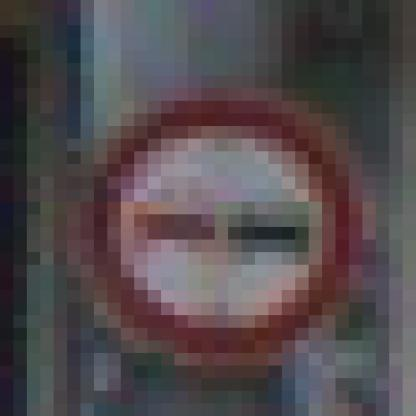No Overtaking: (68, 77, 350, 341)
